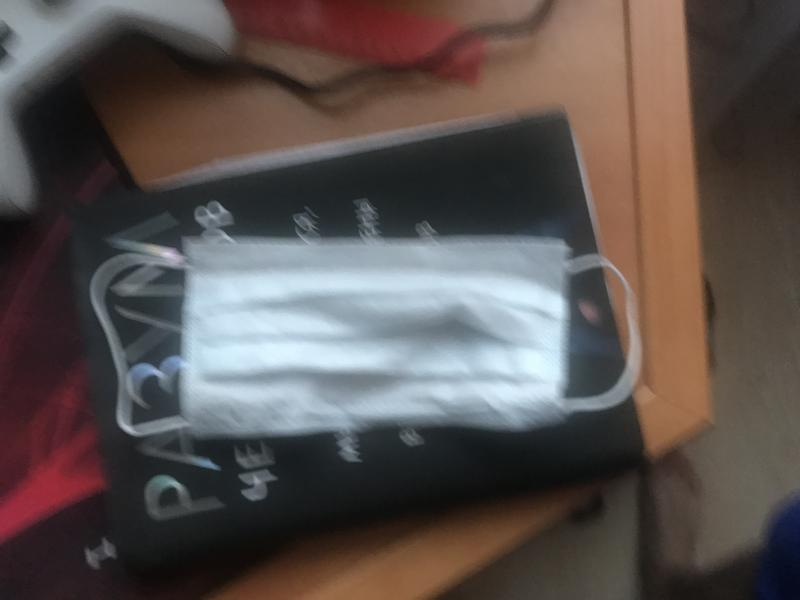medical_mask: (93, 241, 643, 432)
